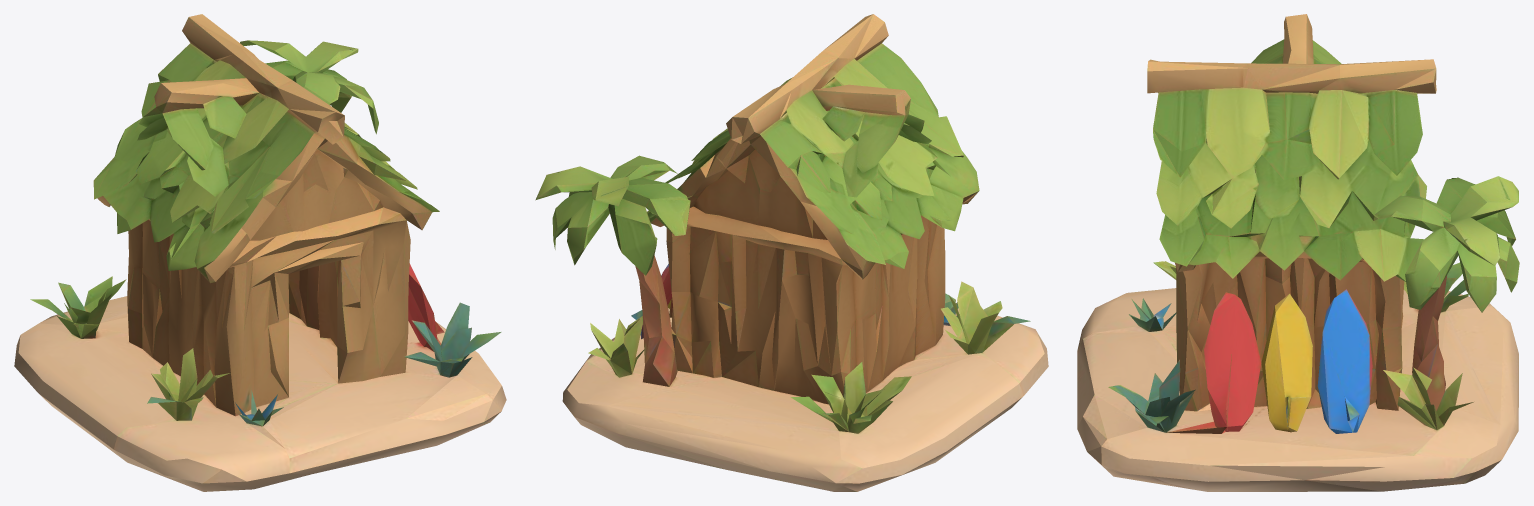
File: b_surf.fbx
3 views of the same model, side by side, from view 1: azimuth 30°, elevation 25°; view 2: azimuth 150°, elevation 25°; view 3: azimuth 270°, elevation 25° (orthographic). The views are drawn at different scales.
Visible parts, largest first — view 1: Mesh_0; view 2: Mesh_0; view 3: Mesh_0.
Boxes of the visible parts, x1,y1,x2,y2 form: Mesh_0: (14,14,506,491); Mesh_0: (535,14,1048,491); Mesh_0: (1077,14,1519,491).
Size of the model in its own units: 1.84 by 1.63 by 1.85.
Materials: 1 (1 with a texture image).
